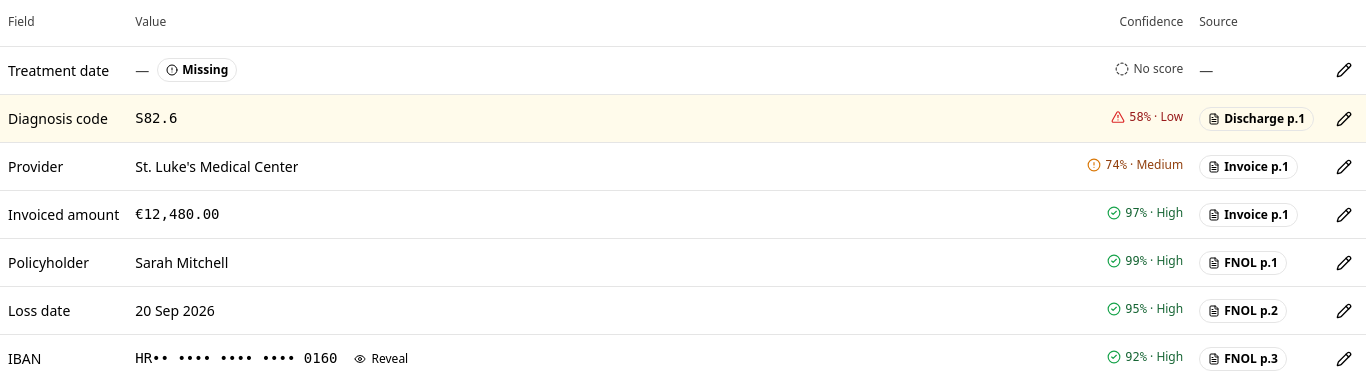
Test: ExtractedFieldsTable › masks the IBAN until revealed, with aria-pressed on the toggle
Expected: the text "HR•• •••• •••• •••• 0160" is shown, [135,348,338,369]
Click the button with aria-label "Reveal IBAN".
click(381, 359)  # box [346,348,416,370]
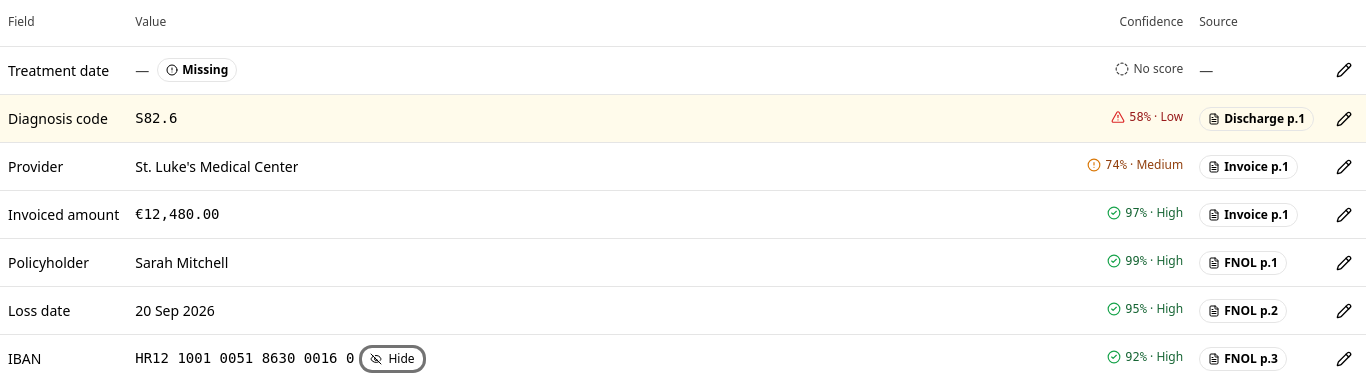
Expected: the text "HR12 1001 0051 8630 0016 0" is shown, [135,348,354,369]
Click the button with aria-label "Hide IBAN".
click(392, 359)  # box [362,348,422,370]
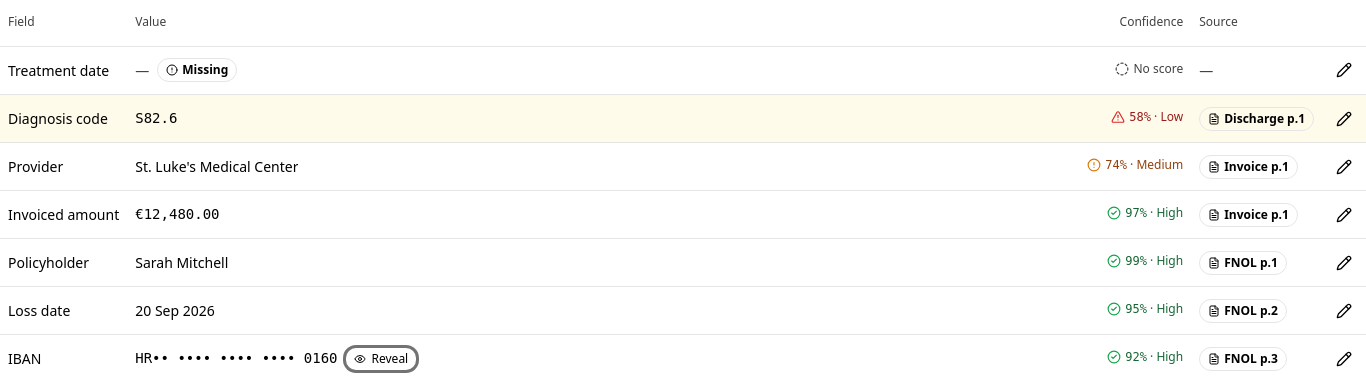
Expected: the text "HR•• •••• •••• •••• 0160" is shown, [135,348,338,369]
